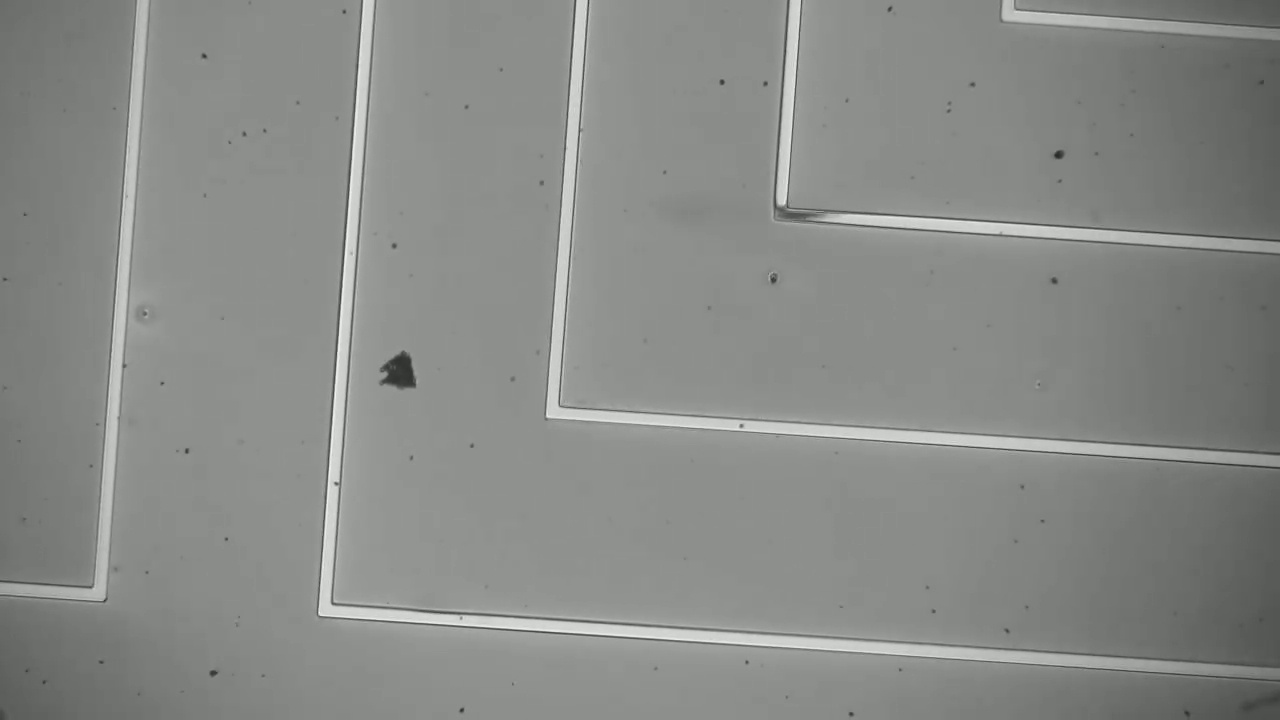gray_line: (759, 192, 849, 239)
